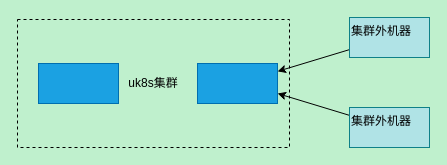
Some shapes in this 447 by 165 pixel diagram are drawn without their labels. Here are the shapes that lost their labels. From the top down, the box of each, then its label:
(38, 62, 118, 104): meteallb备节点
(196, 62, 278, 104): meteallb主节点
